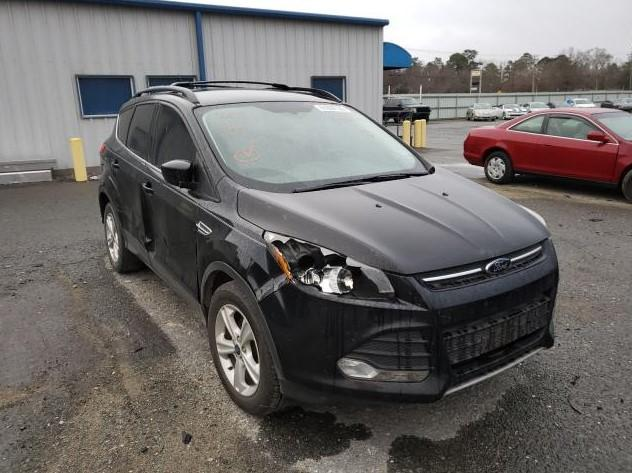Back-door: (109, 100, 158, 264)
Back-wheel: (103, 202, 146, 272)
Back-window: (127, 103, 156, 158), (116, 104, 137, 147)
Fender: (195, 174, 289, 315)
Front-bumper: (259, 239, 561, 405)
Front-door: (139, 100, 216, 313)
Front-wheel: (208, 279, 289, 417)
Front-window: (146, 100, 198, 168)
Grille: (444, 283, 558, 385), (414, 239, 546, 291)
Headlight: (264, 231, 397, 307)
Hood: (238, 165, 551, 274)
Mirror: (161, 157, 201, 189)
Quarter-panel: (98, 118, 117, 222)
Rocker-panel: (124, 244, 206, 325)
Roof: (125, 87, 340, 109)
Tail-light: (99, 143, 105, 152)
Windshield: (194, 101, 426, 192)
